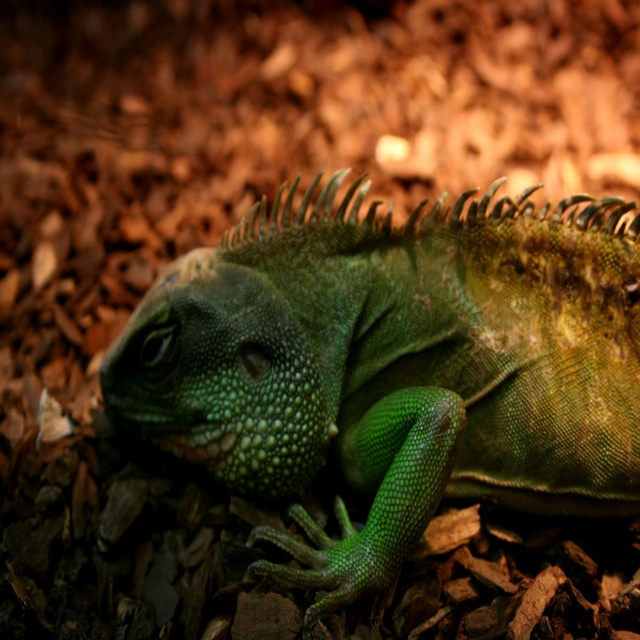Lizard: (113, 138, 626, 640)
